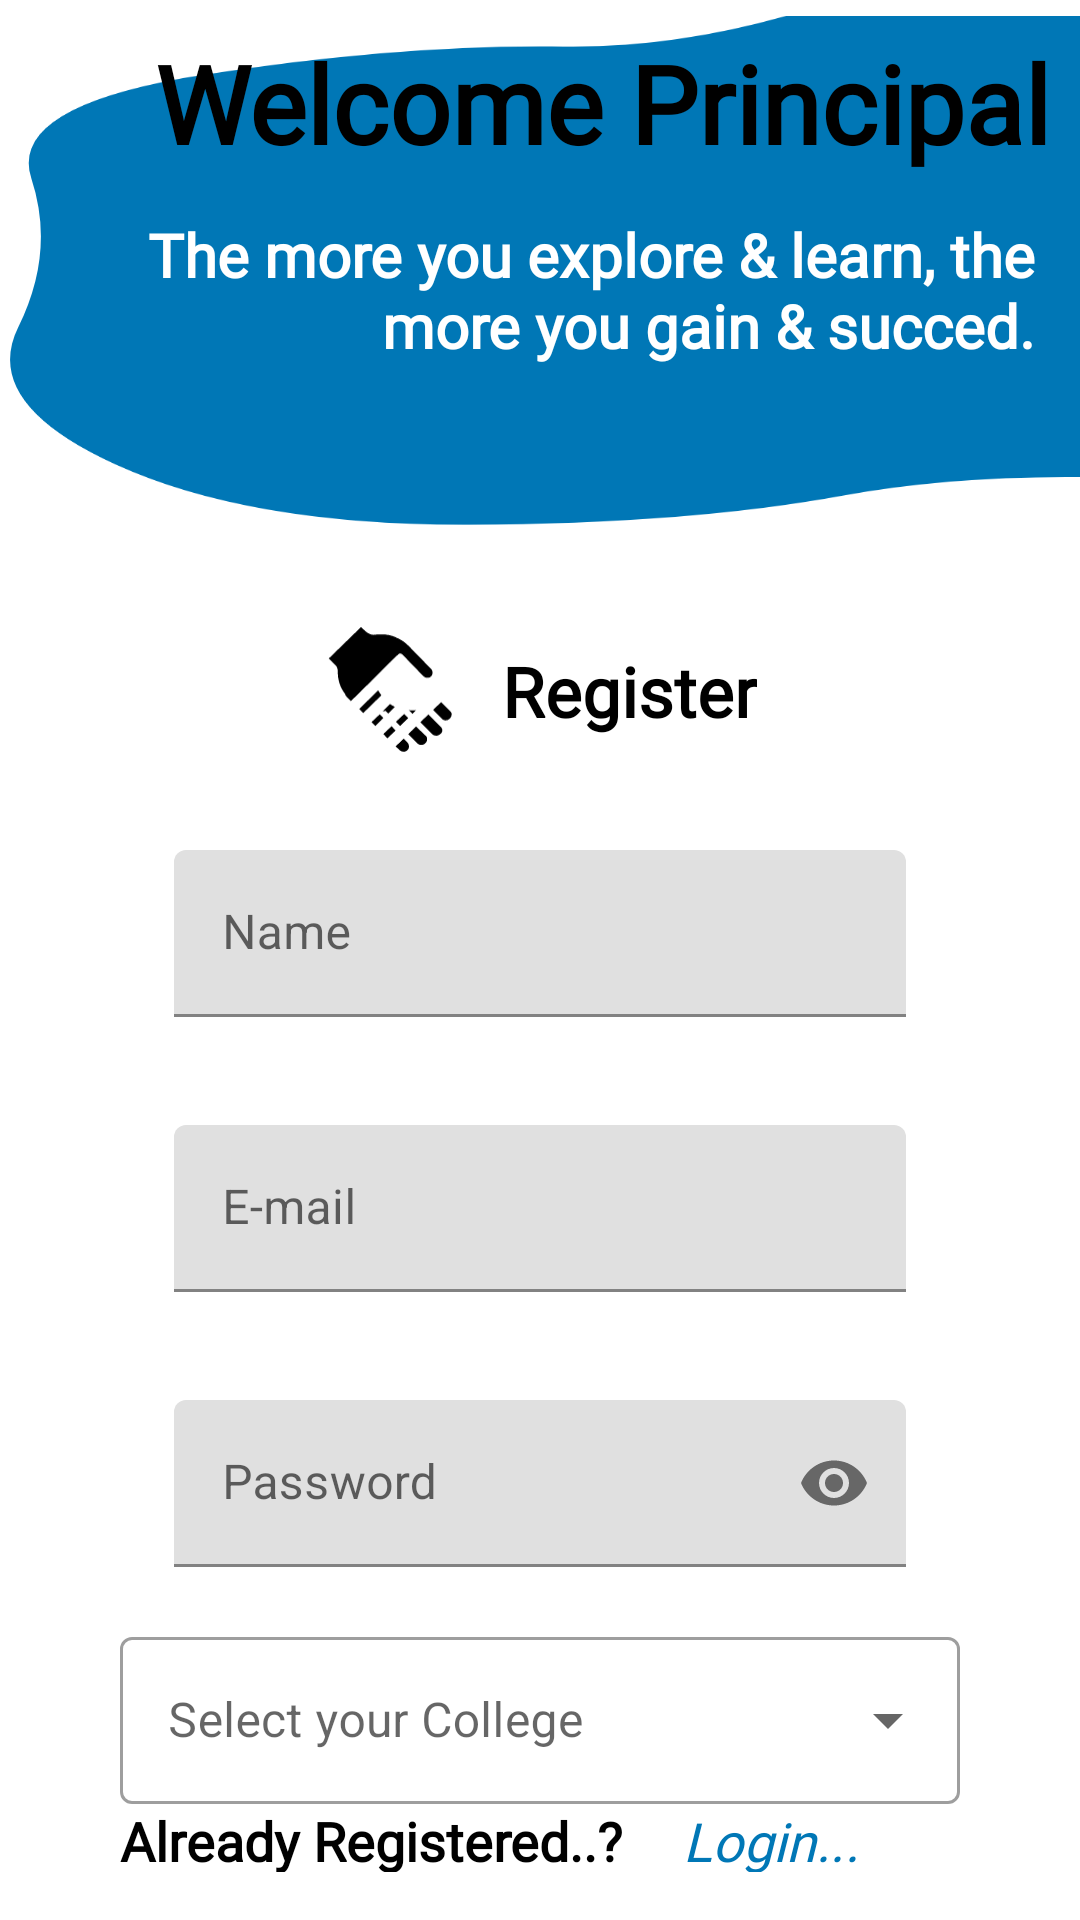

Locate icon controls on the screen. Image size 1080px×1920px, boxes as region(x1, y1, x2, y2).
joinus: region(329, 627, 452, 752)
